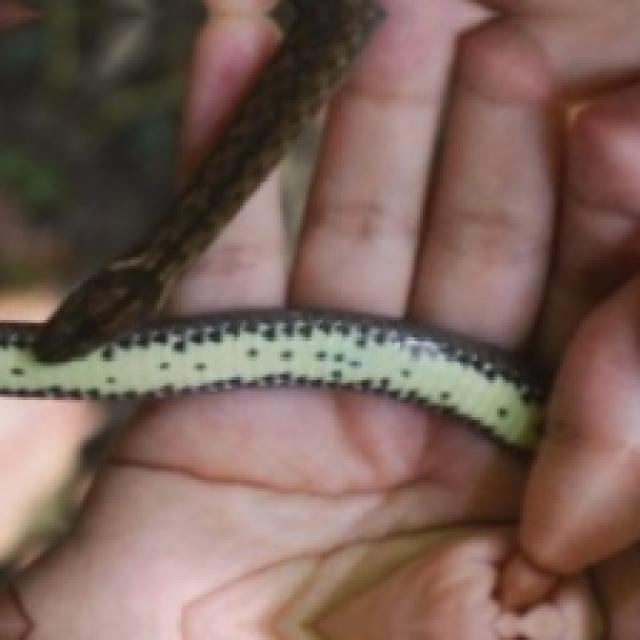reinhardts lined snake: (0, 3, 540, 446)
